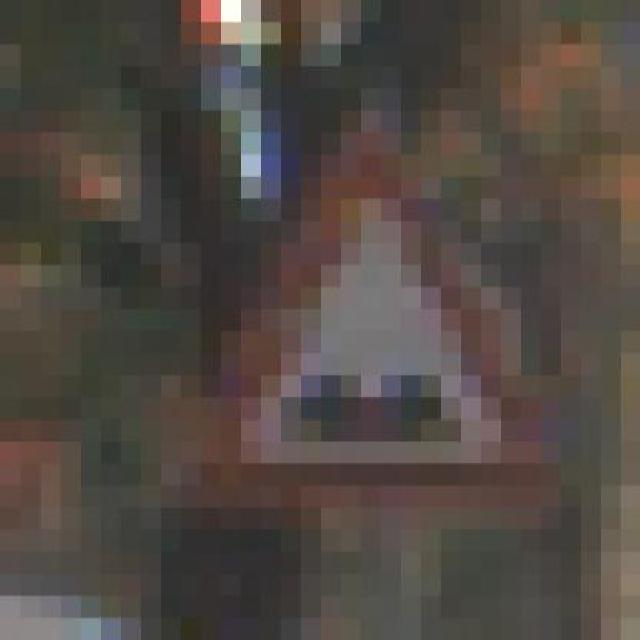Uneven Road: (212, 66, 552, 508)
